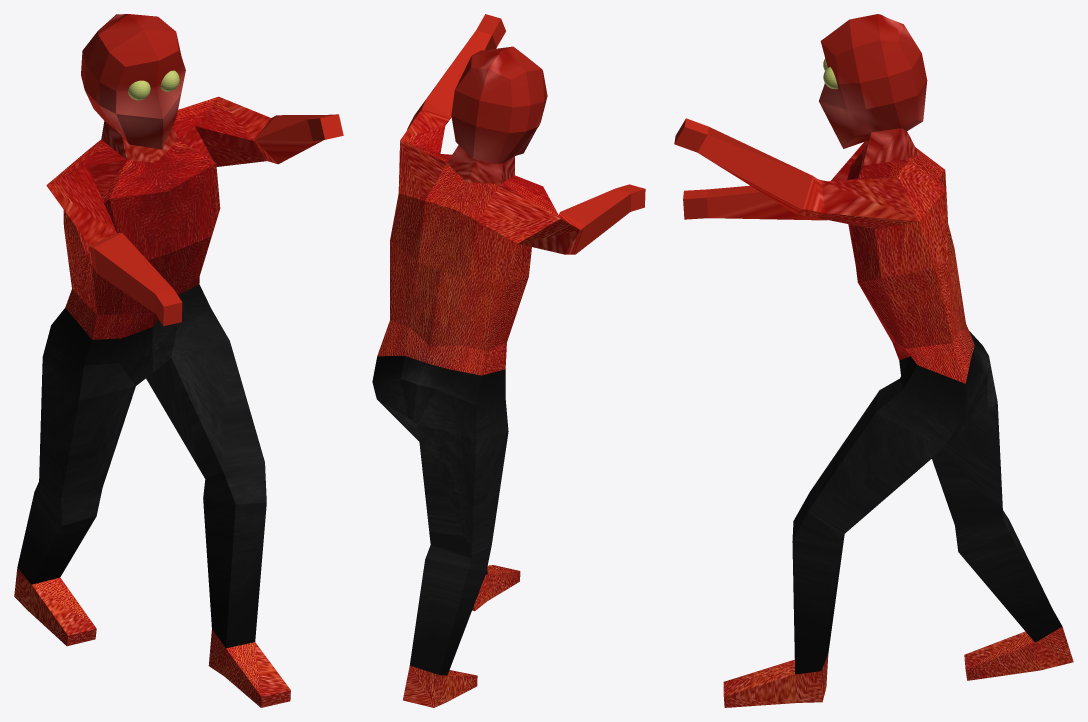
File: laySheary_000017.obj
3 views of the same model, side by side, from view 1: azimuth 30°, elevation 25°; view 2: azimuth 150°, elevation 25°; view 3: azimuth 270°, elevation 25° (orthographic). The views are drawn at different scales.
Parts seen in each view (by area): view 1: Cube; view 2: Cube; view 3: Cube.
Boxes of the visible parts, <box> form: Cube: <box>14,14,343,707</box>; Cube: <box>372,14,645,707</box>; Cube: <box>674,14,1073,707</box>.
Size of the model in its own units: 5.19 by 15.86 by 8.68.
Materials: 3 (2 with a texture image).
